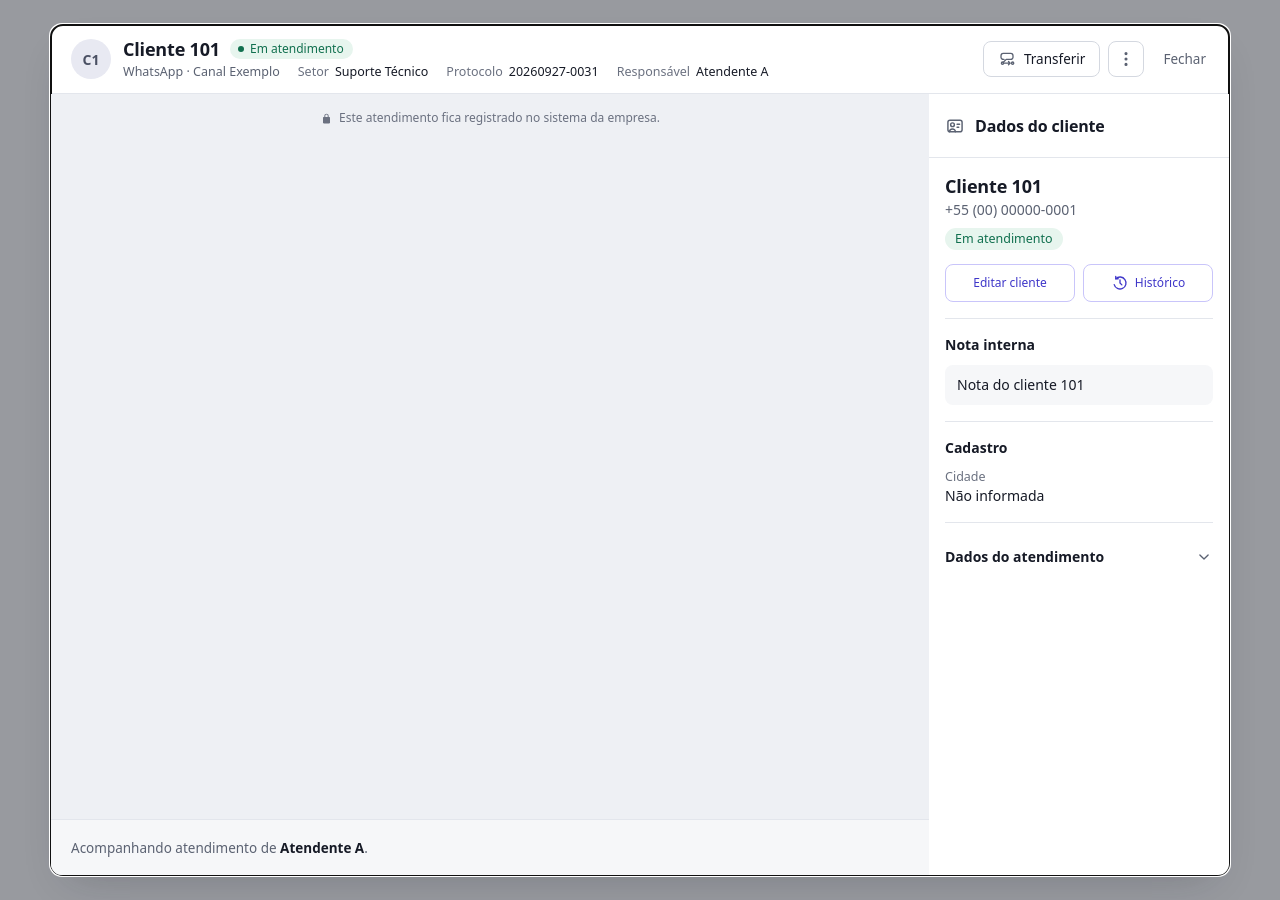
Test case: popup da Supervisão no desktop › cancelar a confirmação não encerra, e o foco volta ao botão do menu
The width and height of the screenshot is (1280, 900).
Click the button named "Mais opções": (1126, 59) [1108,41,1144,77]
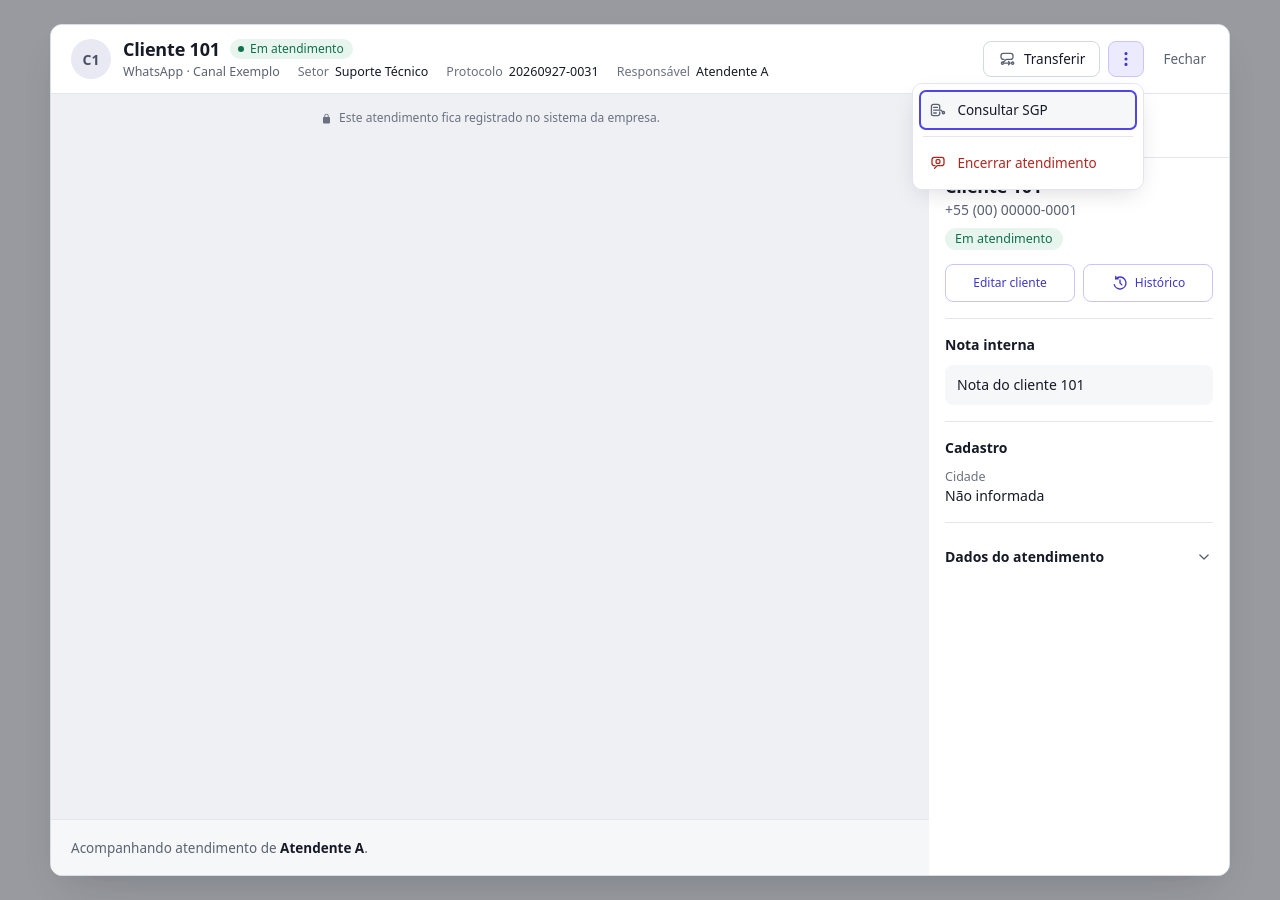
Click the menu item "Encerrar atendimento": (1028, 163) [919,143,1137,183]
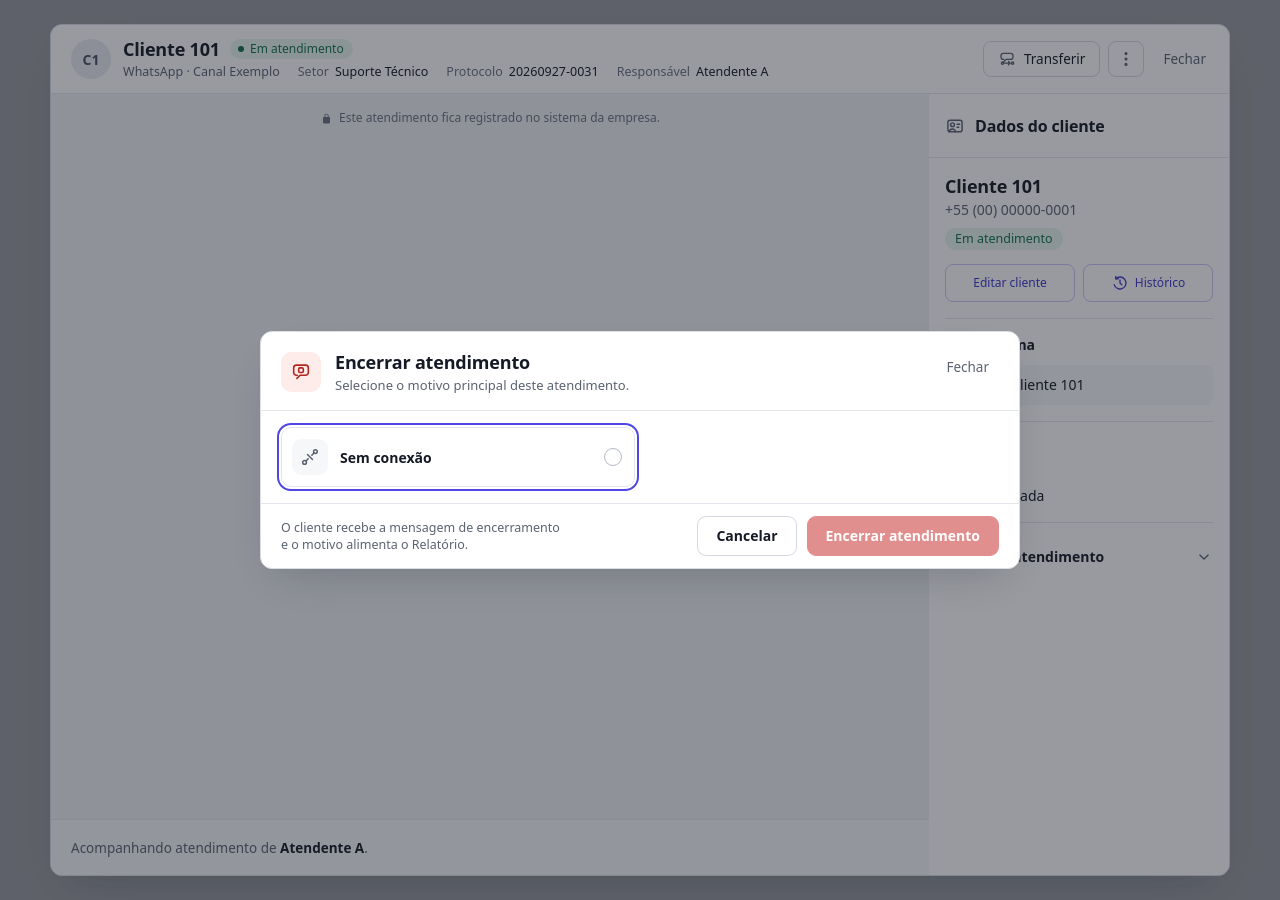
Click the button "Cancelar": (747, 536) [697,516,796,556]
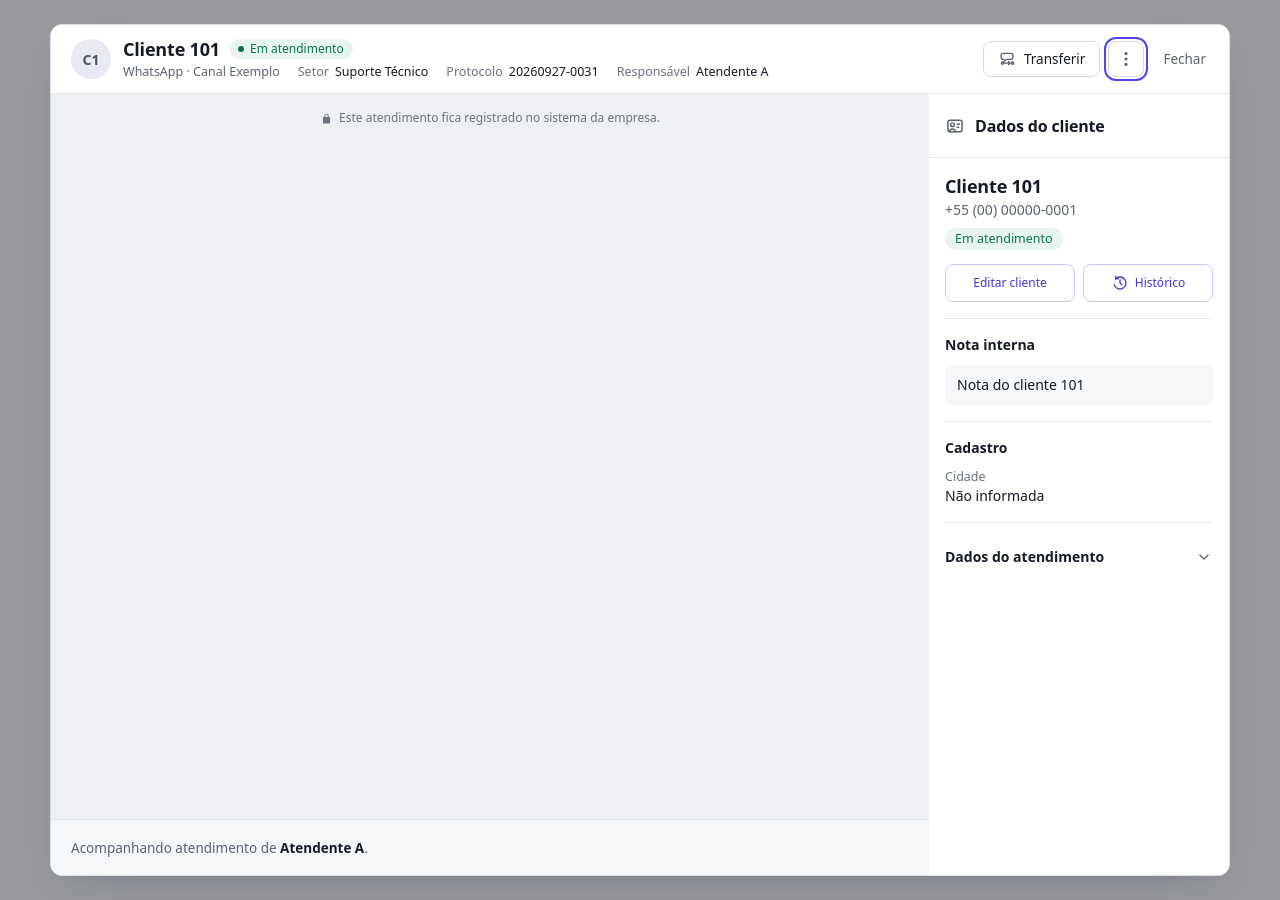
Now the heading "Encerrar atendimento" is gone
